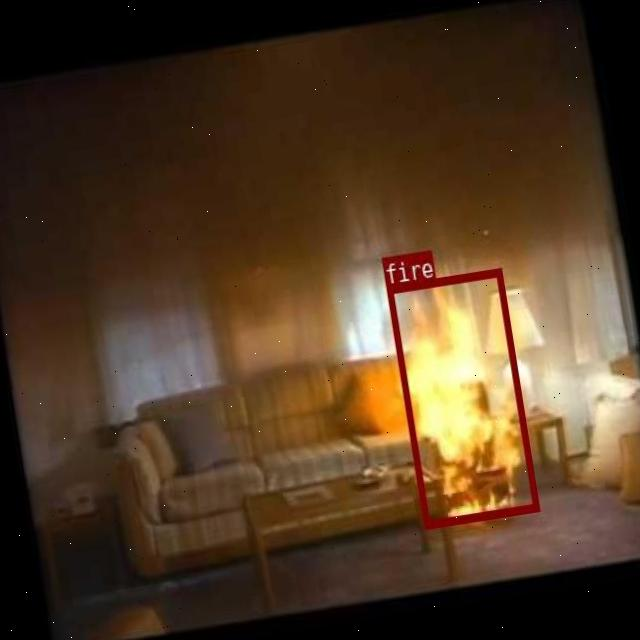fire: (386, 267, 538, 528)
